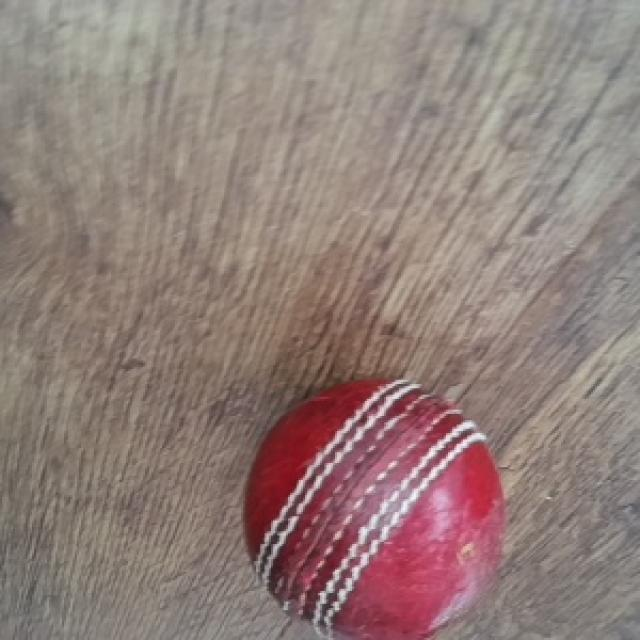ball: (241, 380, 508, 640)
